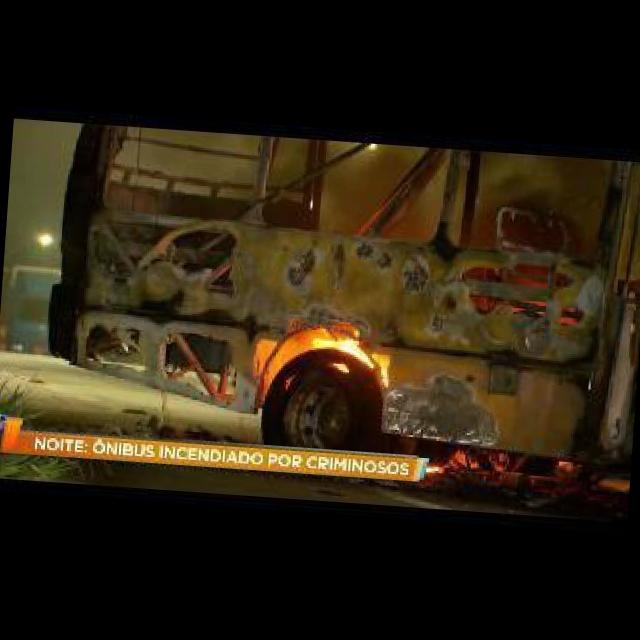Fire: (306, 325, 391, 374)
